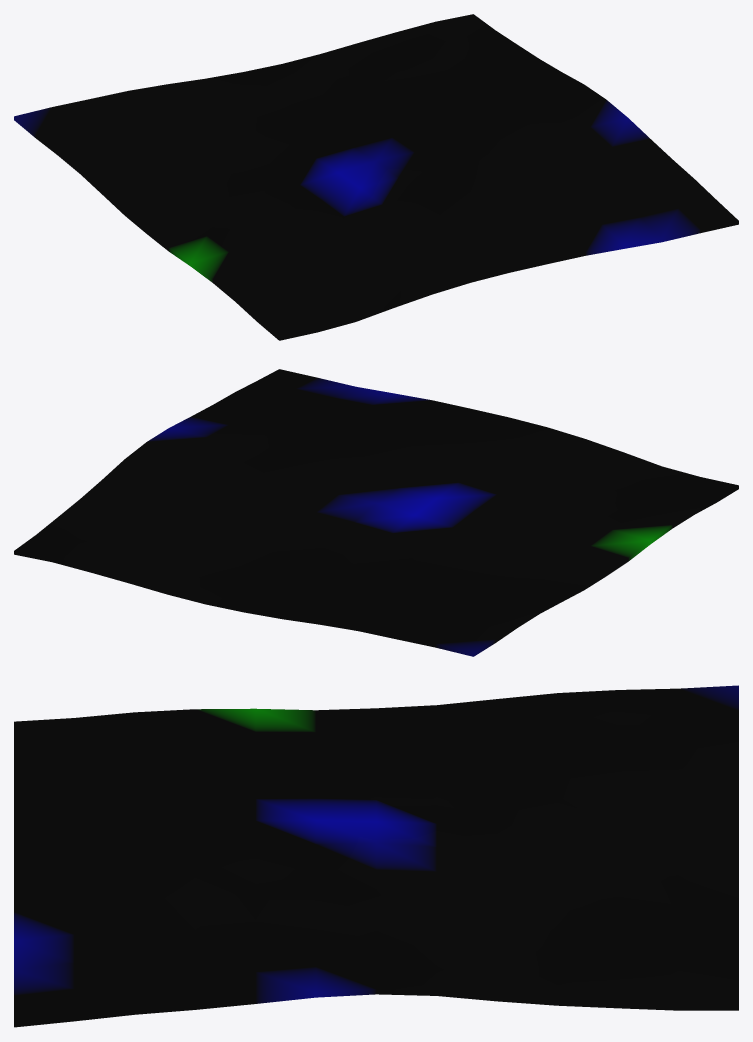
Rendered from coast_11_2.glb.
3 views of the same model, one above another, from view 1: azimuth 30°, elevation 25°; view 2: azimuth 150°, elevation 25°; view 3: azimuth 270°, elevation 25° (orthographic). The views are drawn at different scales.
Parts seen in each view (by area): view 1: terrain; view 2: terrain; view 3: terrain.
Boxes of the visible parts, x1,y1,x2,y2 form: terrain: (14,14,738,340); terrain: (14,369,738,656); terrain: (14,685,738,1027).
Bounding box in the file's own units: 192 × 13.2 × 192.
